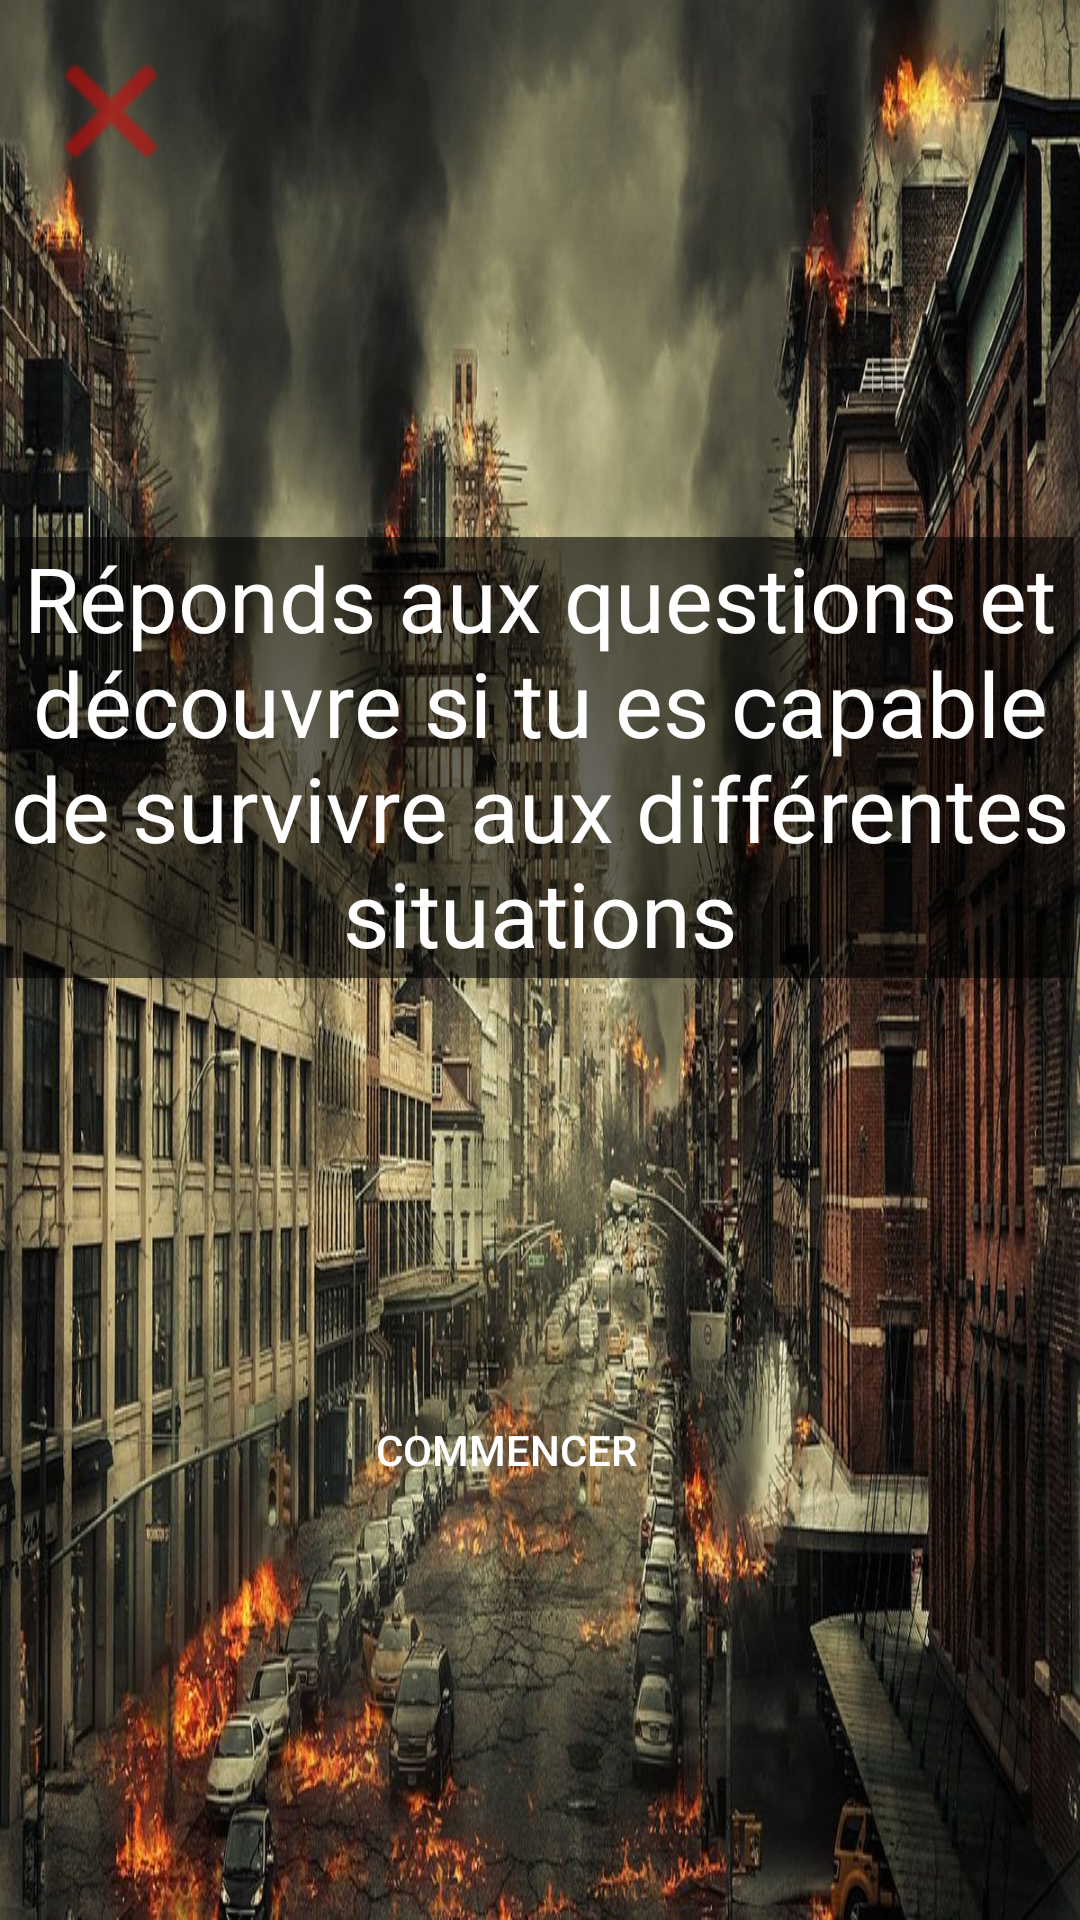

Icons on this 1080 x 1920 Android screen, each with the point to tap as point (x, y):
close clear cancel: point (111, 111)
